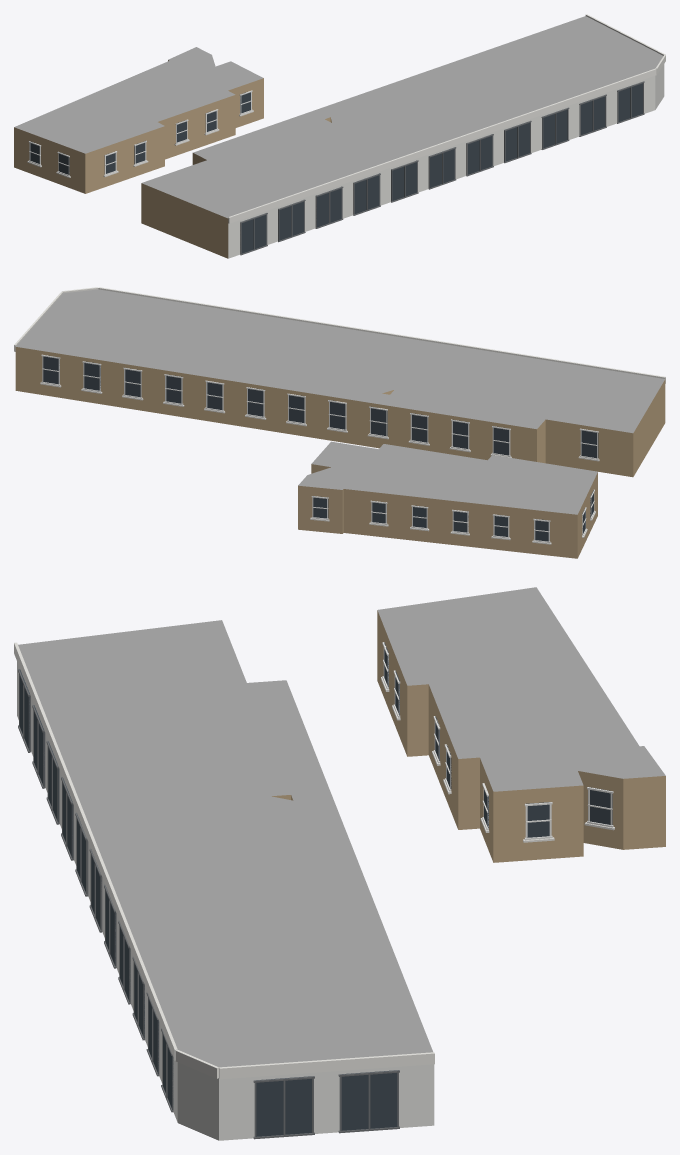
The model's file is level-1.glb.
3 views of the same model, one above another, from view 1: azimuth 30°, elevation 25°; view 2: azimuth 150°, elevation 25°; view 3: azimuth 270°, elevation 25° (orthographic). The views are drawn at different scales.
Visible parts, largest first — view 1: building, facade; view 2: building, facade; view 3: building, facade.
Part boxes in pixels (left/top/right/bottom): building: left=14, top=16, right=664, bottom=258; facade: left=27, top=14, right=665, bottom=255; building: left=15, top=289, right=665, bottom=558; facade: left=14, top=287, right=665, bottom=544; building: left=17, top=587, right=665, bottom=1140; facade: left=14, top=642, right=614, bottom=1139.
Size of the model in its own units: 43.81 by 3.1 by 24.95.
